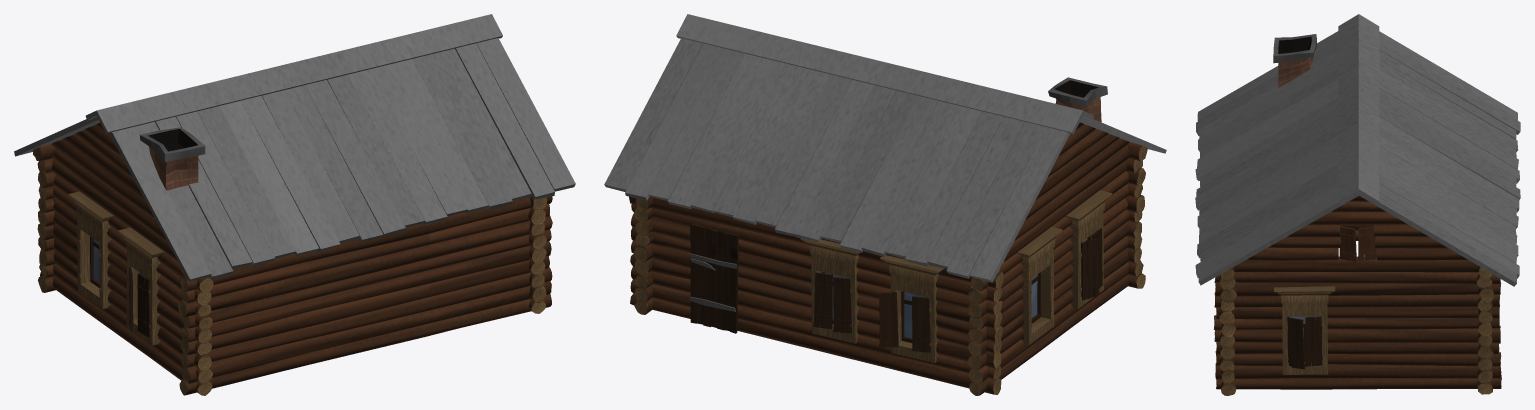
Rendered from house_build-v1.fbx.
The picture shows the model from 3 angles, left to right: view 1: azimuth 30°, elevation 25°; view 2: azimuth 150°, elevation 25°; view 3: azimuth 270°, elevation 25°; orthographic projection. The views are drawn at different scales.
Visible parts, largest first — view 1: House-Build_v01; view 2: House-Build_v01; view 3: House-Build_v01.
Part boxes in pixels (x1,y1,x2,y2): House-Build_v01: (14,14,575,395); House-Build_v01: (604,14,1166,395); House-Build_v01: (1195,14,1520,395).
Size of the model in its own units: 1828 by 1047 by 1434.
